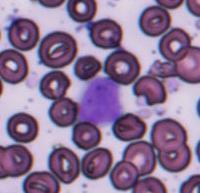L: (78, 75, 123, 126)
